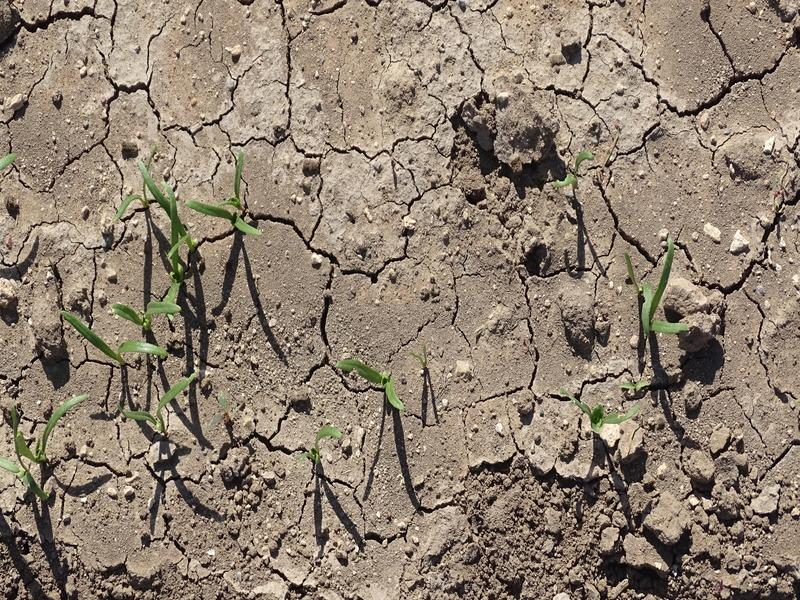Espinaca: (114, 148, 254, 258), (57, 275, 192, 368), (4, 386, 95, 481), (633, 235, 689, 332), (117, 371, 209, 429), (331, 353, 411, 412), (558, 387, 636, 430)
